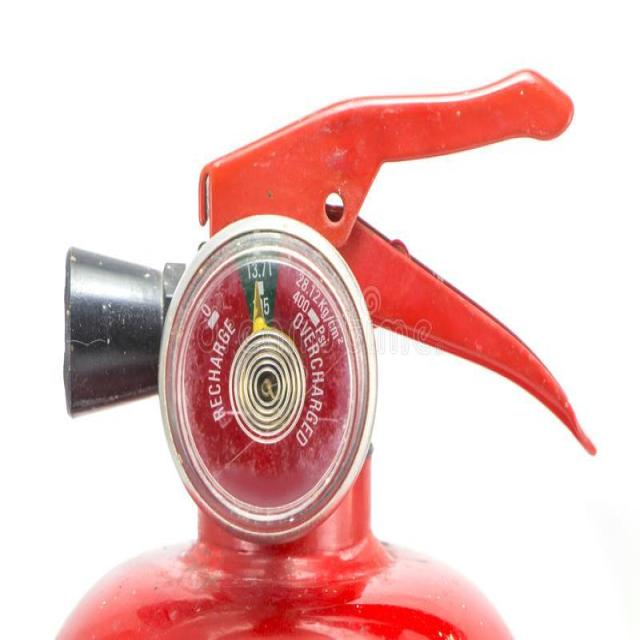fire_extinguisher: (44, 61, 601, 639)
